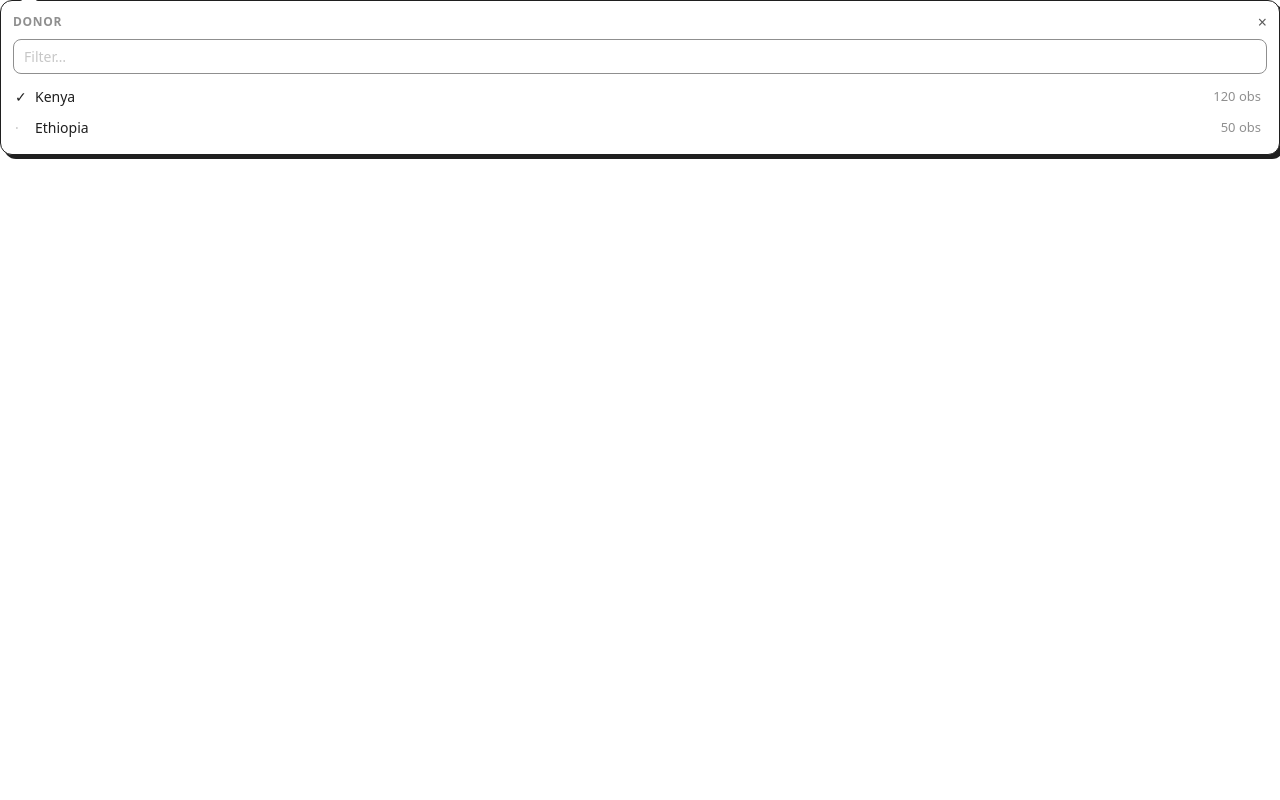
<EntityPopover> › the filter input narrows rows
Type "ken" into the field named "Filter options" at (640, 56), box left=13, top=39, right=1267, bottom=74
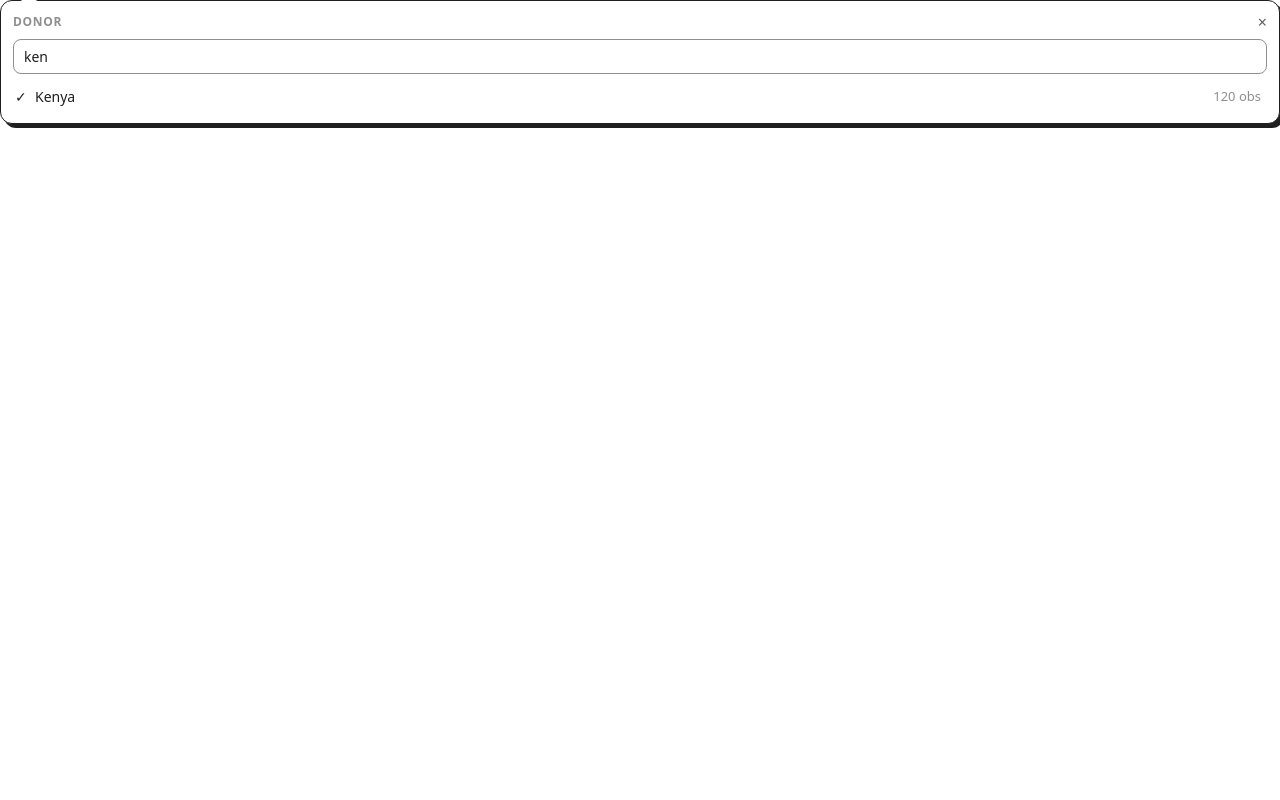
Expected: the text "Kenya" is shown, left=35, top=87, right=75, bottom=106
Expected: the button "Ethiopia" is gone
